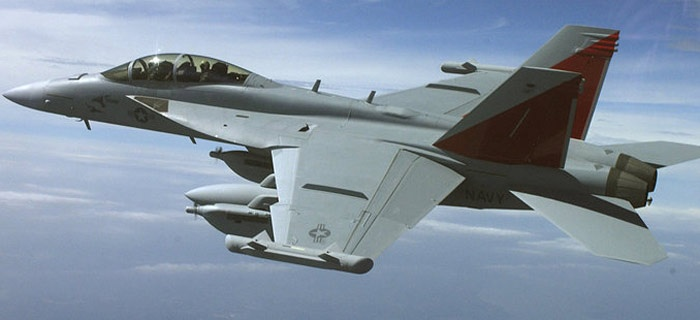airplane: (7, 24, 700, 274)
